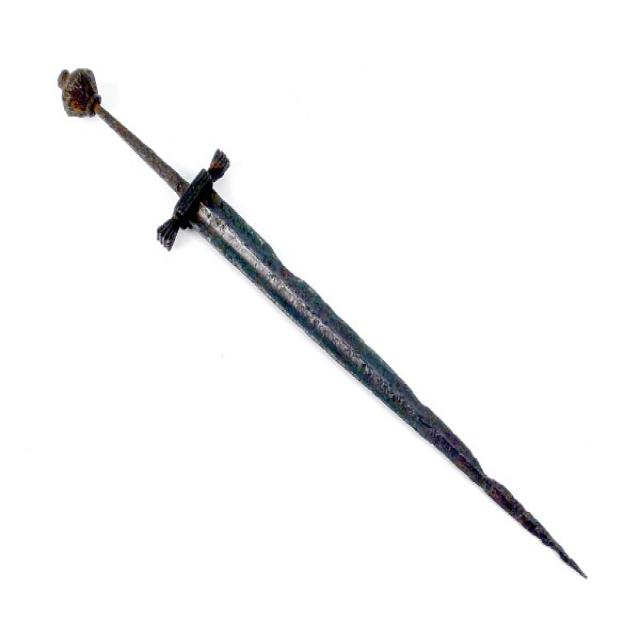Gun: (51, 53, 604, 607)
